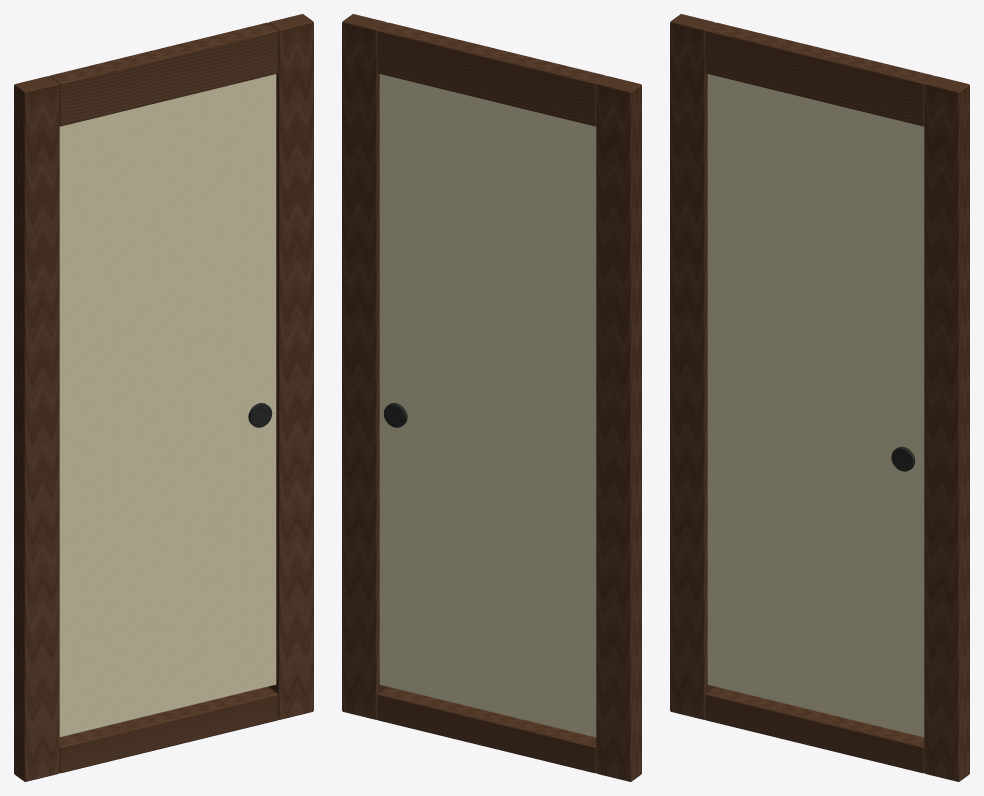
The model's file is fusuma.glb.
The picture shows the model from 3 angles, left to right: view 1: azimuth 30°, elevation 25°; view 2: azimuth 150°, elevation 25°; view 3: azimuth 330°, elevation 25°; orthographic projection.
Parts seen in each view (by area): view 1: fusuma; view 2: fusuma; view 3: fusuma.
Part boxes in pixels (x1=…): fusuma: x1=14, y1=14, x2=313, y2=781; fusuma: x1=342, y1=14, x2=641, y2=781; fusuma: x1=670, y1=14, x2=969, y2=781.
Size of the model in its own units: 0.9 by 2.05 by 0.082.
3 materials, 3 textured.
